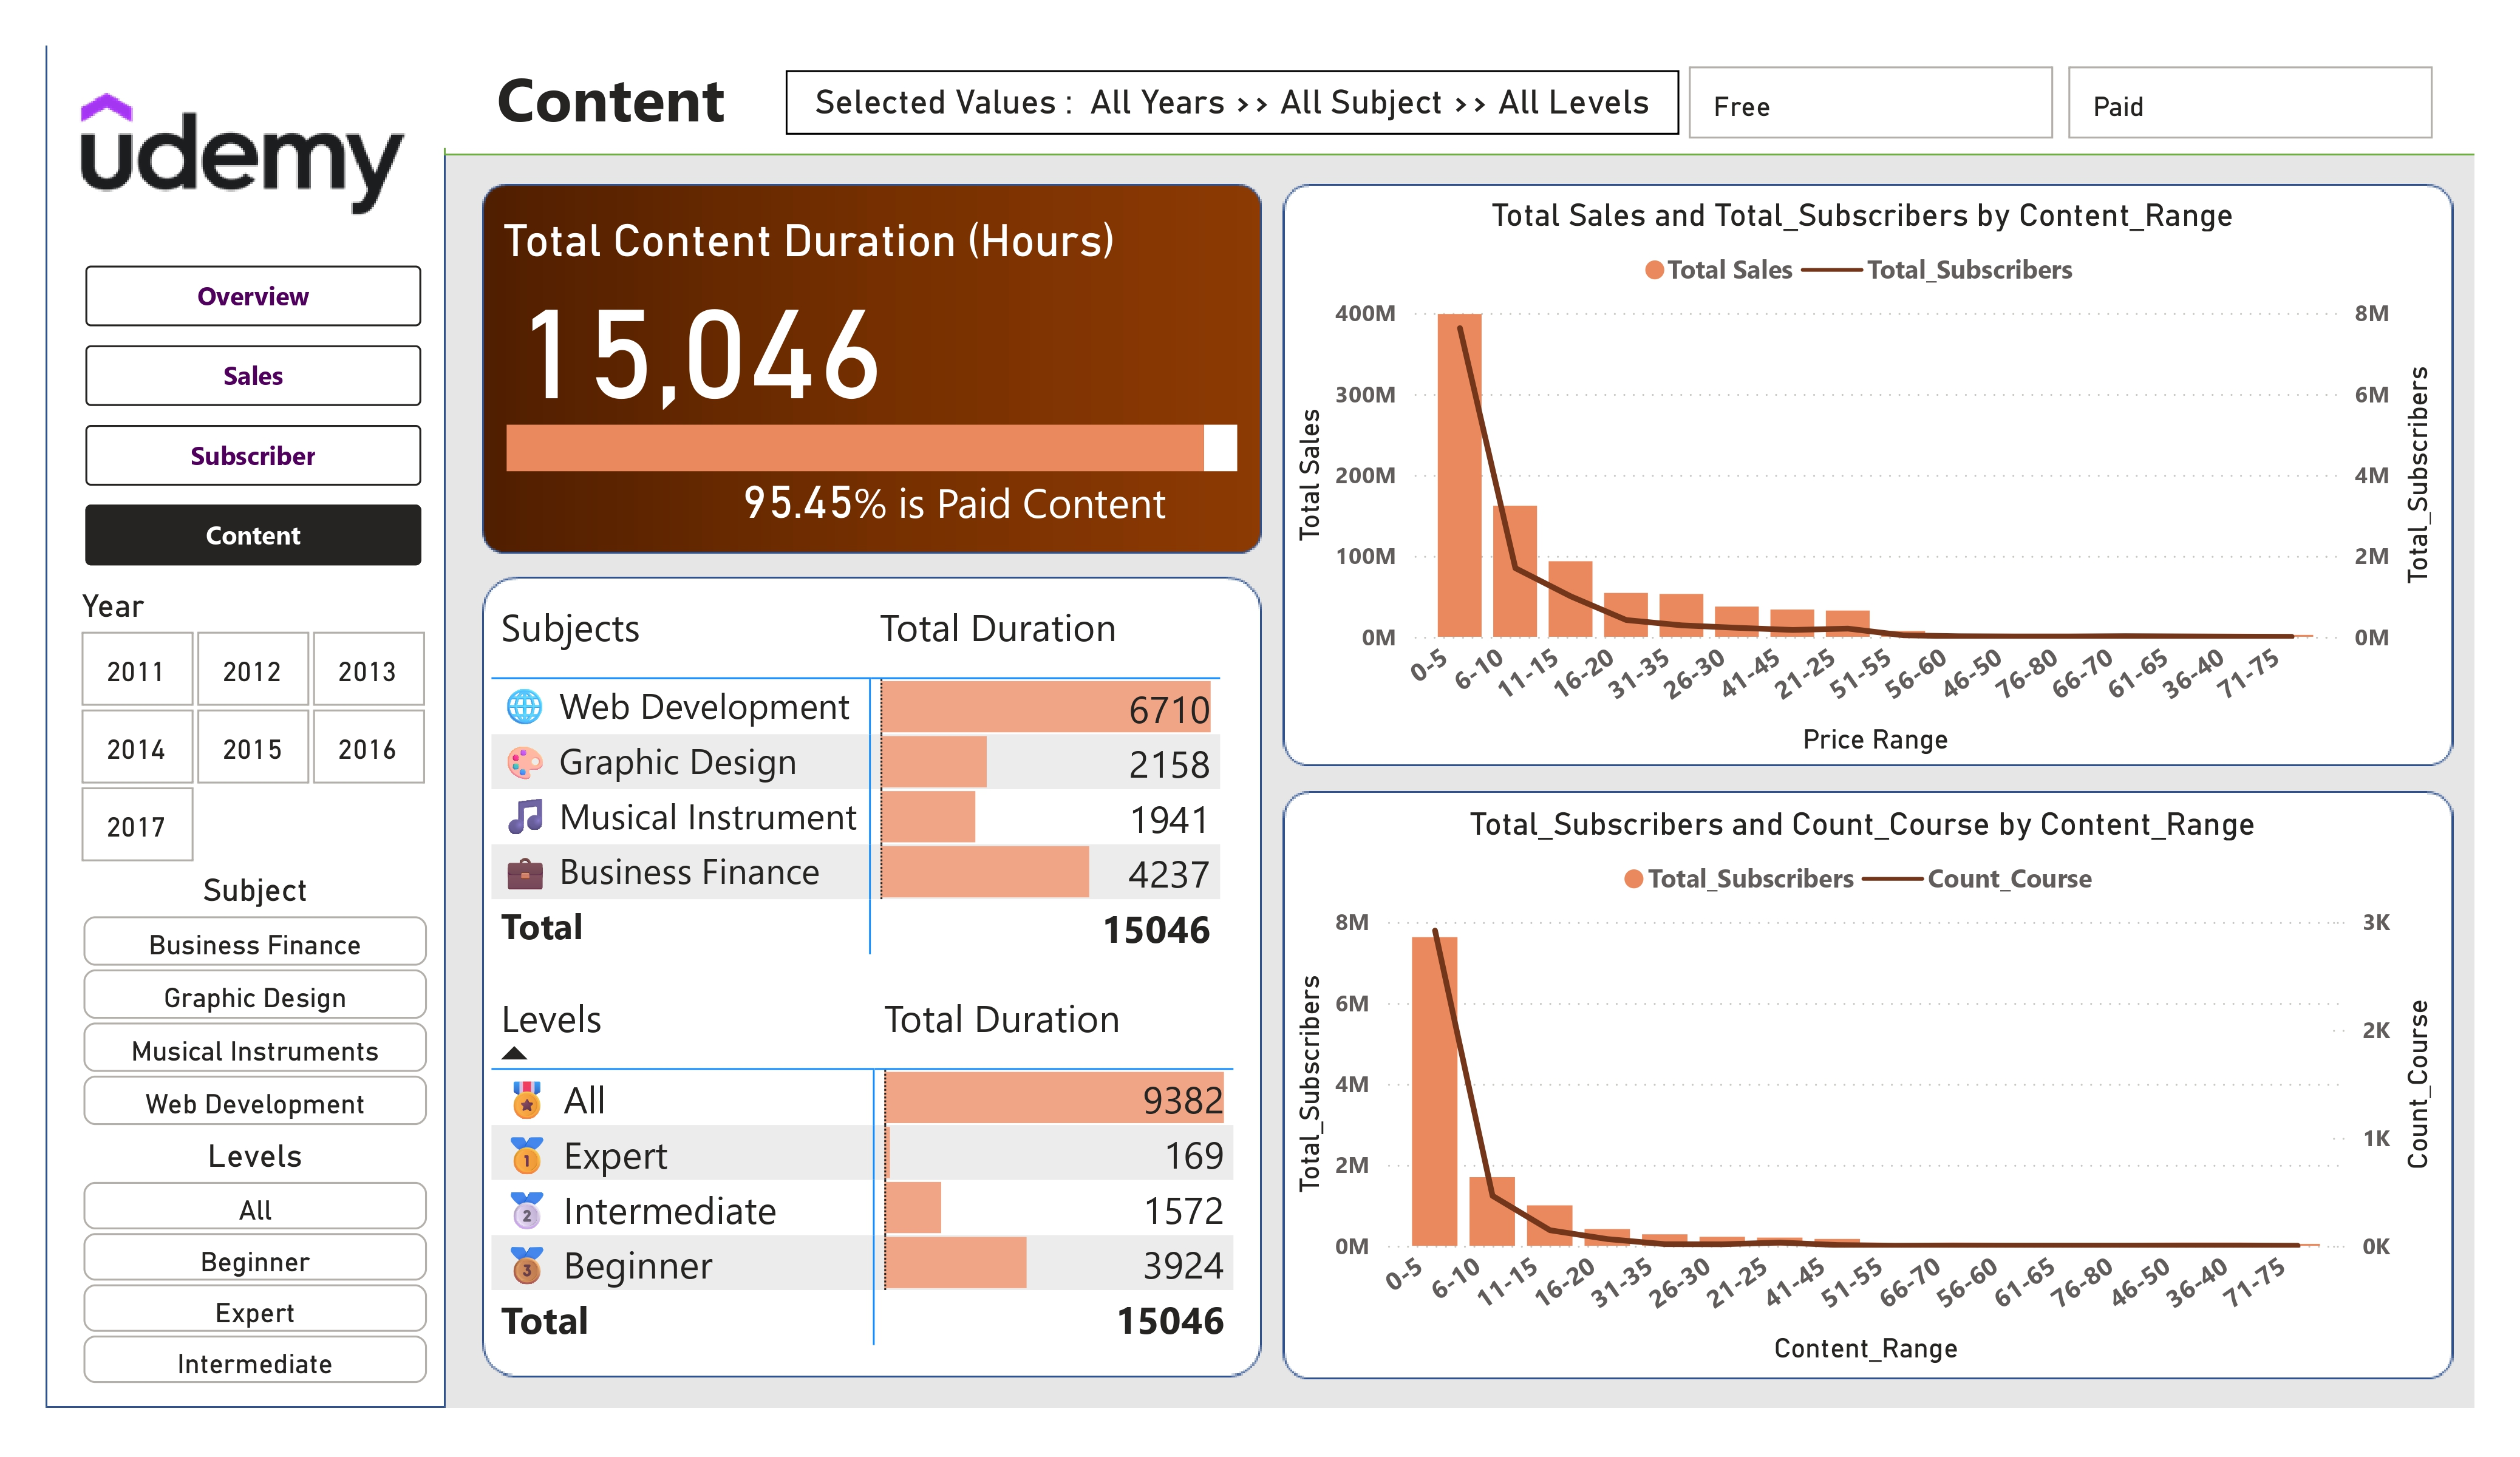

Layout of this report page (visuals, bound fields, positions):
{"tool":"powerbi","page":{"name":"Content","canvas":[1280,720],"ordinal":3},"visuals":[{"type":"lineStackedColumnComboChart","fields":{"Category":["dim_contentrange.Content_Range"],"Y2":["_Measures.Total_Subscribers"],"Y":["_Measures.Total Sales"]},"box":[652.6,78.9,609.2,300],"z":0},{"type":"lineStackedColumnComboChart","fields":{"Y":["_Measures.Total_Subscribers"],"Category":["dim_contentrange.Content_Range"],"Y2":["_Measures.Count_Course"]},"box":[652.6,400,609.2,300],"z":1000},{"type":"cardVisual","title":"Total Content Duration (Hours)","fields":{"Data":["_Measures.Total_Content_Duration"]},"box":[230.7,79.3,340.9,117.6],"z":2000},{"type":"hundredPercentStackedBarChart","fields":{"Y":["_Measures.# Free Content Duration","_Measures.# Paid Content Duration"]},"box":[238,154.3,395.3,110.2],"z":3000},{"type":"cardVisual","fields":{"Data":["_Measures.# pct_paid_content_cduration"]},"box":[350,201.8,142.9,62.5],"z":4000},{"type":"textbox","box":[421.4,221.4,189.3,64.3],"z":5000},{"type":"pivotTable","fields":{"Rows":["dim_subject.subject_name"],"Values":["_Measures.Total_Content_Duration"]},"box":[230.3,285.5,409.2,206.6],"z":6000},{"type":"pivotTable","fields":{"Values":["_Measures.Total Duration"],"Rows":["dim_level.Level_Icon"]},"box":[230.2,492.1,409.5,207.9],"z":7000},{"type":"pageNavigator","box":[21.2,116.2,176.2,160],"z":8000},{"type":"advancedSlicerVisual","title":"Levels","fields":{"Values":["dim_level.Level"]},"box":[14.9,575.1,191.2,135.9],"z":9000},{"type":"advancedSlicerVisual","title":"Subject","fields":{"Values":["dim_subject.subject"]},"box":[14.9,434.7,191.2,140.4],"z":10000},{"type":"advancedSlicerVisual","fields":{"Values":["dim_date.Year"]},"box":[14.3,285,191.4,150],"z":11000},{"type":"advancedSlicerVisual","fields":{"Values":["dim_paid.course_type"]},"box":[861.1,5.6,401.9,48.1],"z":12000},{"type":"card","fields":{"Values":["_Measures.# Selections Values"]},"box":[389.9,13.1,470.7,34.3],"z":13000},{"type":"textbox","box":[205.8,0,184.1,53.6],"z":14000}]}

Visuals, with their boxes on the page's 1280x720 design canvas (x1, y1, x2, y2). These are canvas units, not pixel positions in the 2520x1457 screenshot, which may show the page scaled, cropped or inside an application window:
lineStackedColumnComboChart - dim_contentrange.Content_Range x _Measures.Total_Subscribers: [653,79,1262,379]
lineStackedColumnComboChart - _Measures.Total_Subscribers x dim_contentrange.Content_Range: [653,400,1262,700]
"Total Content Duration (Hours)" cardVisual: [231,79,572,197]
hundredPercentStackedBarChart - _Measures.# Free Content Duration x _Measures.# Paid Content Duration: [238,154,633,264]
cardVisual - _Measures.# pct_paid_content_cduration: [350,202,493,264]
textbox: [421,221,611,286]
pivotTable - dim_subject.subject_name x _Measures.Total_Content_Duration: [230,286,640,492]
pivotTable - _Measures.Total Duration x dim_level.Level_Icon: [230,492,640,700]
pageNavigator: [21,116,197,276]
"Levels" advancedSlicerVisual: [15,575,206,711]
"Subject" advancedSlicerVisual: [15,435,206,575]
advancedSlicerVisual - dim_date.Year: [14,285,206,435]
advancedSlicerVisual - dim_paid.course_type: [861,6,1263,54]
card - _Measures.# Selections Values: [390,13,861,47]
textbox: [206,0,390,54]
